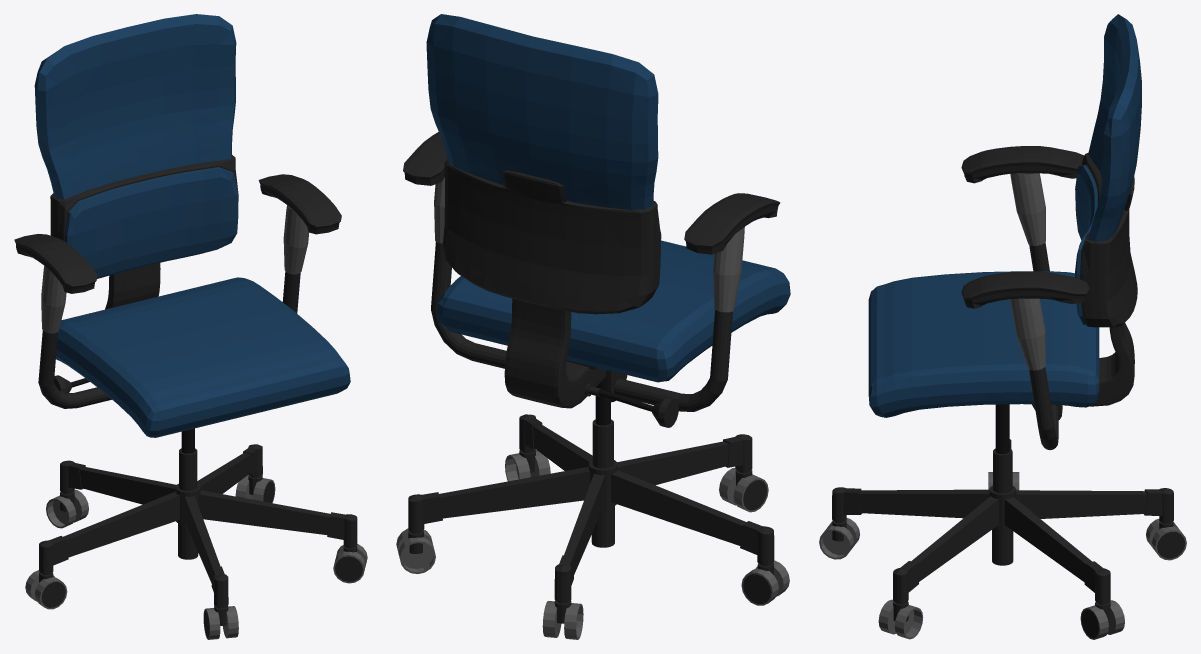
Rendered from office_chair.obj.
The picture shows the model from 3 angles, left to right: view 1: azimuth 30°, elevation 25°; view 2: azimuth 150°, elevation 25°; view 3: azimuth 270°, elevation 25°; orthographic projection. The views are drawn at different scales.
Visible parts, largest first — view 1: sillaOfi_respaldo, sillaOfi_ruedas.0, sillaOfi_respaldo.001, sillaOfi_soporte.001_, sillaOfi_ruedas.001_C, sillaOfi_soporte..001; view 2: sillaOfi_respaldo, sillaOfi_respaldo.001, sillaOfi_ruedas.0, sillaOfi_soporte.001_, sillaOfi_ruedas.001_C, sillaOfi_soporte..001, sillaOfi_soporte.; view 3: sillaOfi_respaldo, sillaOfi_ruedas.0, sillaOfi_respaldo.001, sillaOfi_soporte.001_, sillaOfi_ruedas.001_C, sillaOfi_soporte..001, sillaOfi_soporte..
Part boxes in pixels (<box>): sillaOfi_respaldo: <box>34,14,350,437</box>; sillaOfi_ruedas.0: <box>39,444,362,637</box>; sillaOfi_respaldo.001: <box>14,155,341,309</box>; sillaOfi_soporte.001_: <box>38,271,300,559</box>; sillaOfi_ruedas.001_C: <box>25,475,367,639</box>; sillaOfi_soporte..001: <box>41,205,308,333</box>; sillaOfi_respaldo: <box>426,14,790,382</box>; sillaOfi_respaldo.001: <box>403,132,780,408</box>; sillaOfi_ruedas.0: <box>408,414,774,623</box>; sillaOfi_soporte.001_: <box>431,242,732,547</box>; sillaOfi_ruedas.001_C: <box>396,450,789,639</box>; sillaOfi_soporte..001: <box>434,177,744,312</box>; sillaOfi_soporte.: <box>595,377,653,425</box>; sillaOfi_respaldo: <box>868,14,1141,417</box>; sillaOfi_ruedas.0: <box>832,439,1185,638</box>; sillaOfi_respaldo.001: <box>961,146,1137,419</box>; sillaOfi_soporte.001_: <box>989,242,1058,565</box>; sillaOfi_ruedas.001_C: <box>819,472,1186,639</box>; sillaOfi_soporte..001: <box>1010,173,1045,370</box>; sillaOfi_soporte.: <box>995,404,1009,454</box>.
Bounding box in the file's own units: 0.7349 × 1.19 × 0.7591.
